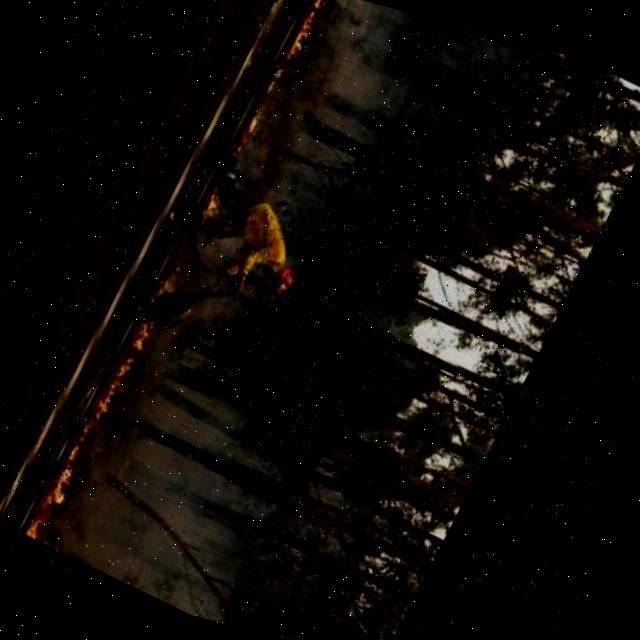fire: (286, 0, 346, 71), (45, 438, 95, 517), (97, 350, 139, 421), (236, 111, 264, 157), (134, 321, 158, 355)
